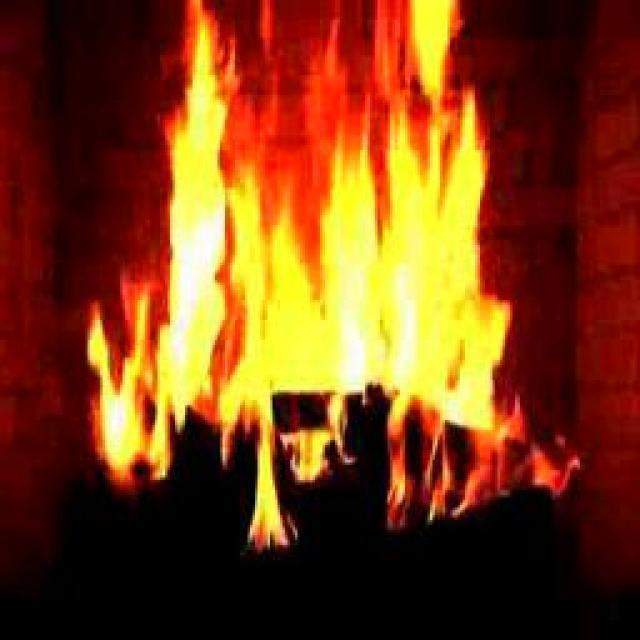Fire: (118, 68, 491, 470)
